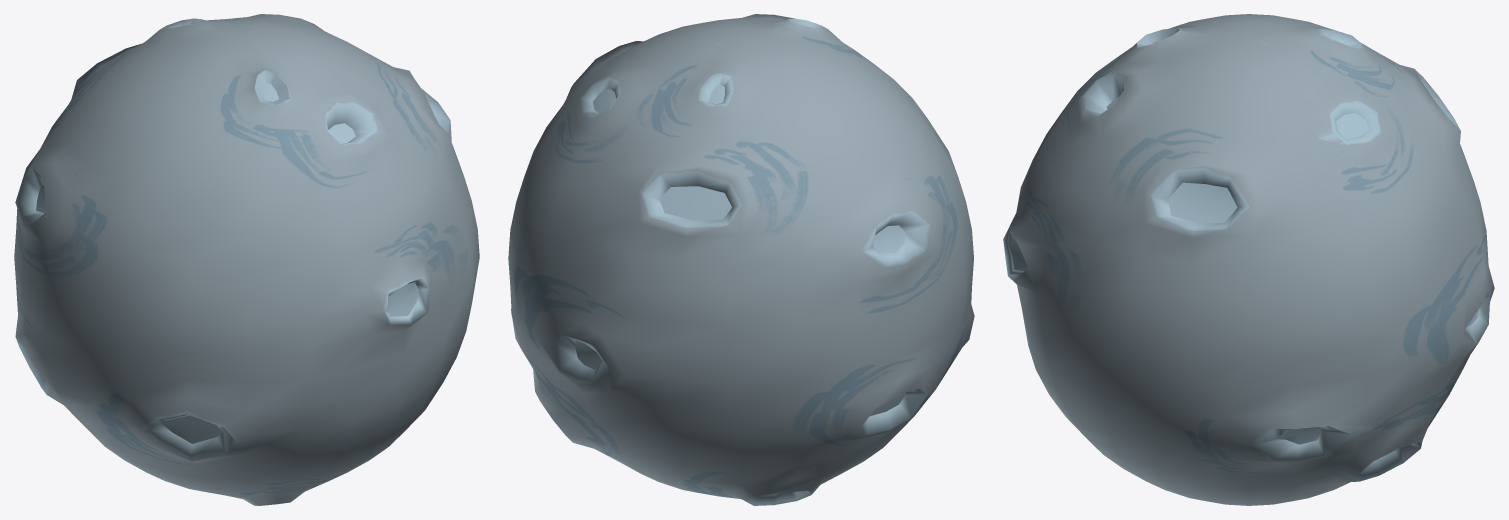
The model's file is Planet1.fbx.
3 renders of one model, left to right at view 1: azimuth 30°, elevation 25°; view 2: azimuth 150°, elevation 25°; view 3: azimuth 270°, elevation 25°, orthographic. The views are drawn at different scales.
Visible parts, largest first — view 1: pSphere1; view 2: pSphere1; view 3: pSphere1.
Boxes of the visible parts, left/top/right/bottom form: pSphere1: left=14, top=14, right=479, bottom=505; pSphere1: left=508, top=14, right=974, bottom=505; pSphere1: left=1003, top=14, right=1494, bottom=505.
Size of the model in its own units: 47.91 by 49.76 by 49.21.
Materials: 1 (1 with a texture image).
